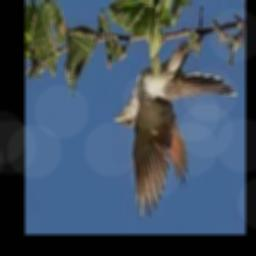Cuckoo: (112, 46, 238, 222)
